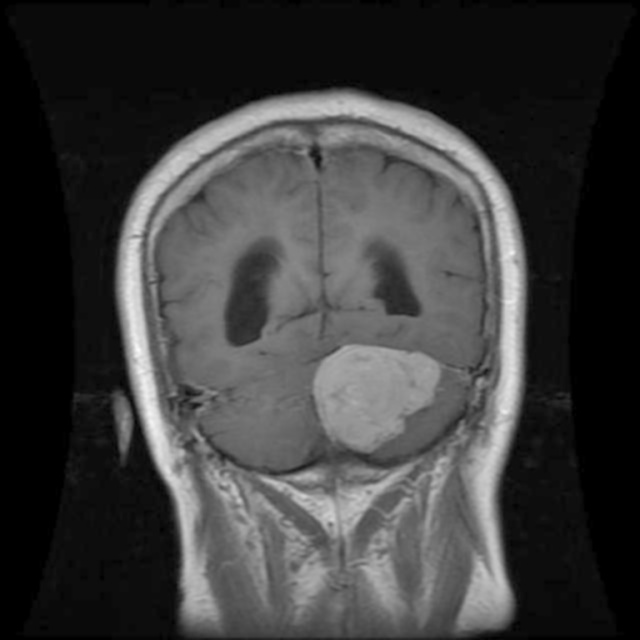meningioma tumor: (308, 348, 452, 438)
